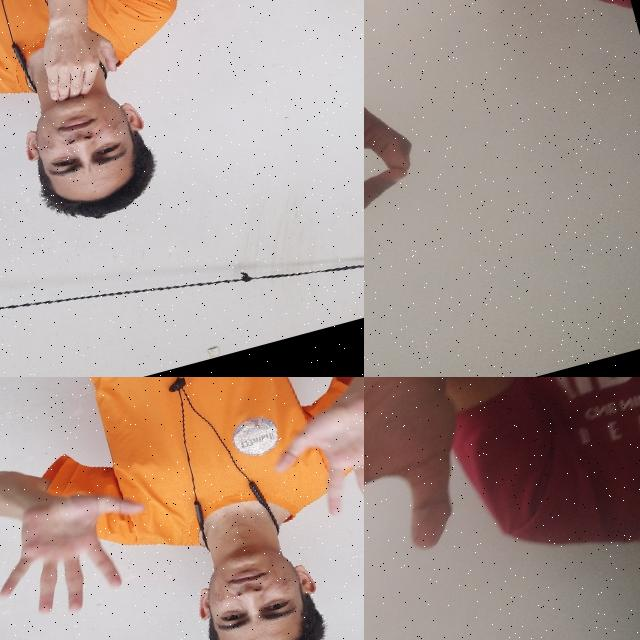Chin Flick: (0, 9, 176, 243)
Moutza: (364, 377, 508, 640), (0, 456, 176, 637), (250, 377, 364, 555)
Okay: (364, 0, 453, 313)
